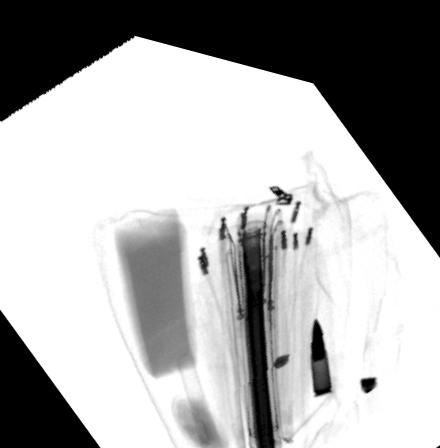Bullet: (309, 299, 335, 381)
